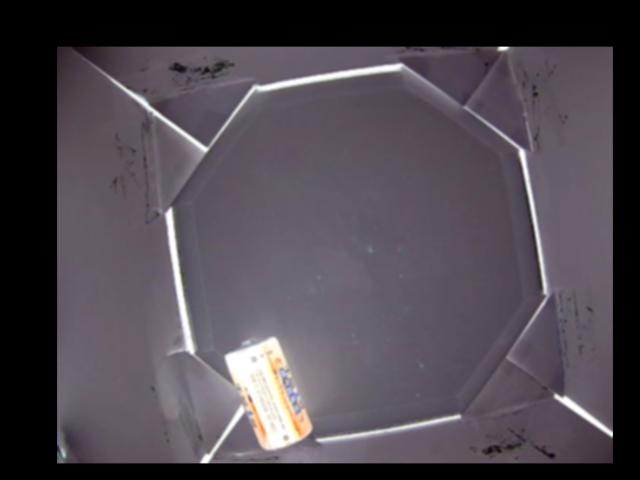Battery: (222, 337, 314, 450)
